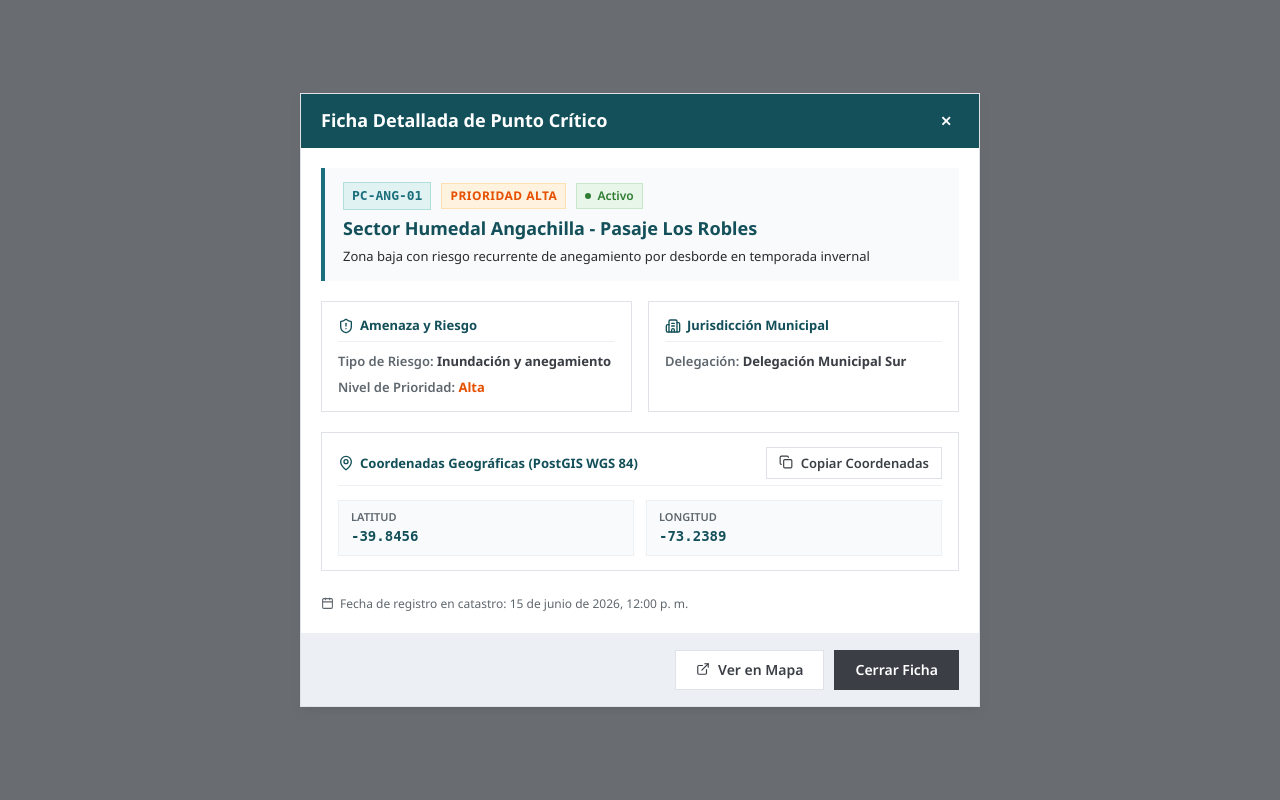
Test case: PuntoCriticoDetalleModal › debe permitir copiar coordenadas al portapapeles desde el modal
Click the button "Copiar Coordenadas".
click(854, 463)  # box [766,447,942,479]
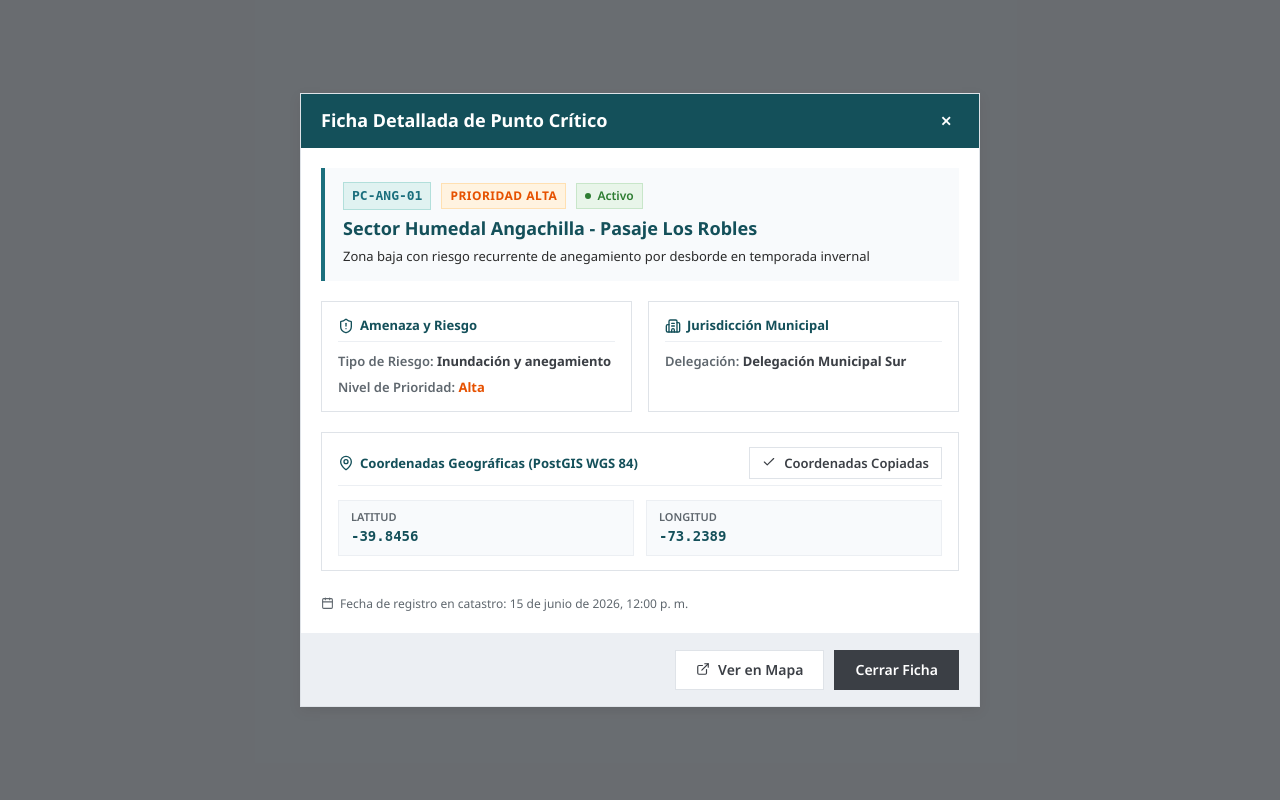
Now the button "Coordenadas Copiadas" is shown, box [749,447,942,479]
